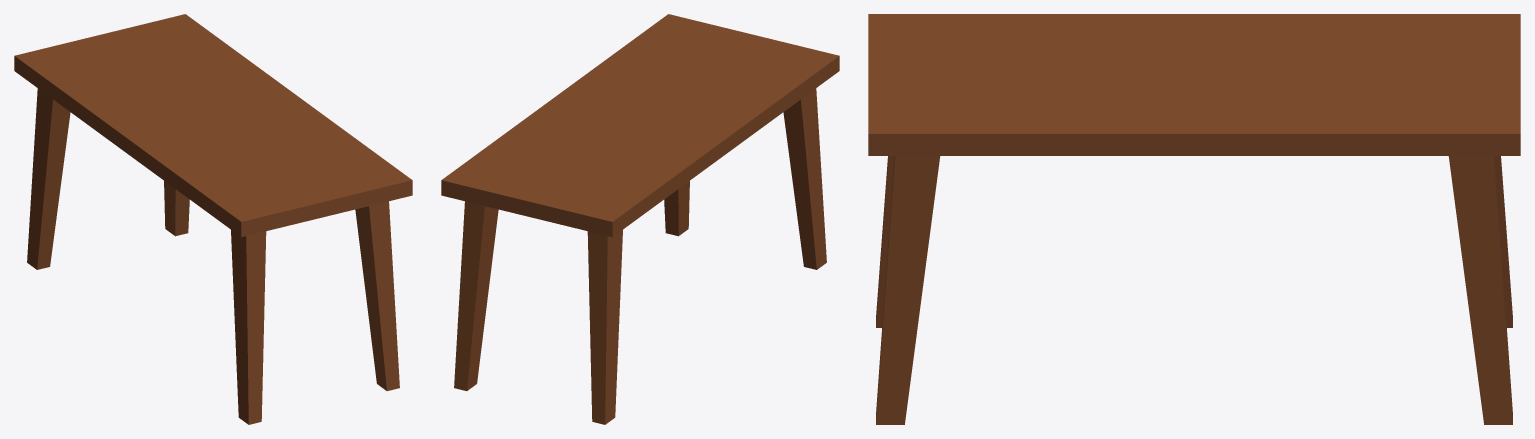
The model's file is Money.fbx.
3 views of the same model, side by side, from view 1: azimuth 30°, elevation 25°; view 2: azimuth 150°, elevation 25°; view 3: azimuth 270°, elevation 25° (orthographic). The views are drawn at different scales.
Parts seen in each view (by area): view 1: Desk; view 2: Desk; view 3: Desk.
Boxes of the visible parts, x1,y1,x2,y2 form: Desk: [14, 14, 412, 424]; Desk: [441, 14, 839, 424]; Desk: [868, 14, 1520, 424].
Bounding box in the file's own units: 184 × 213 × 423.
